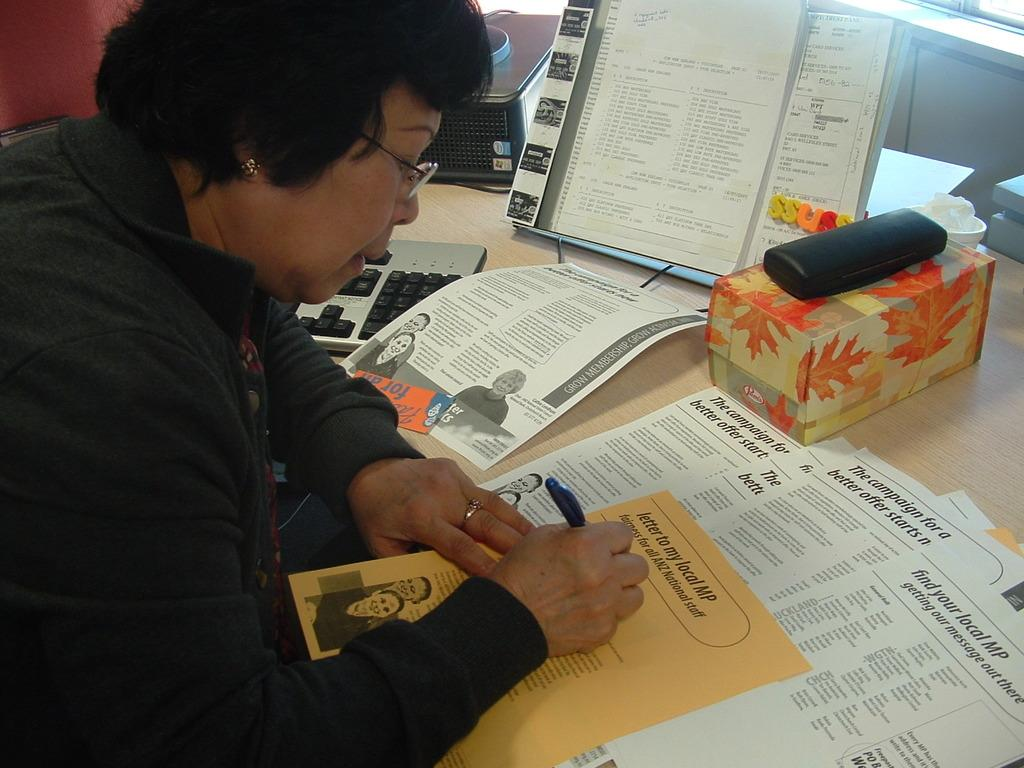pen: (546, 477, 594, 527)
